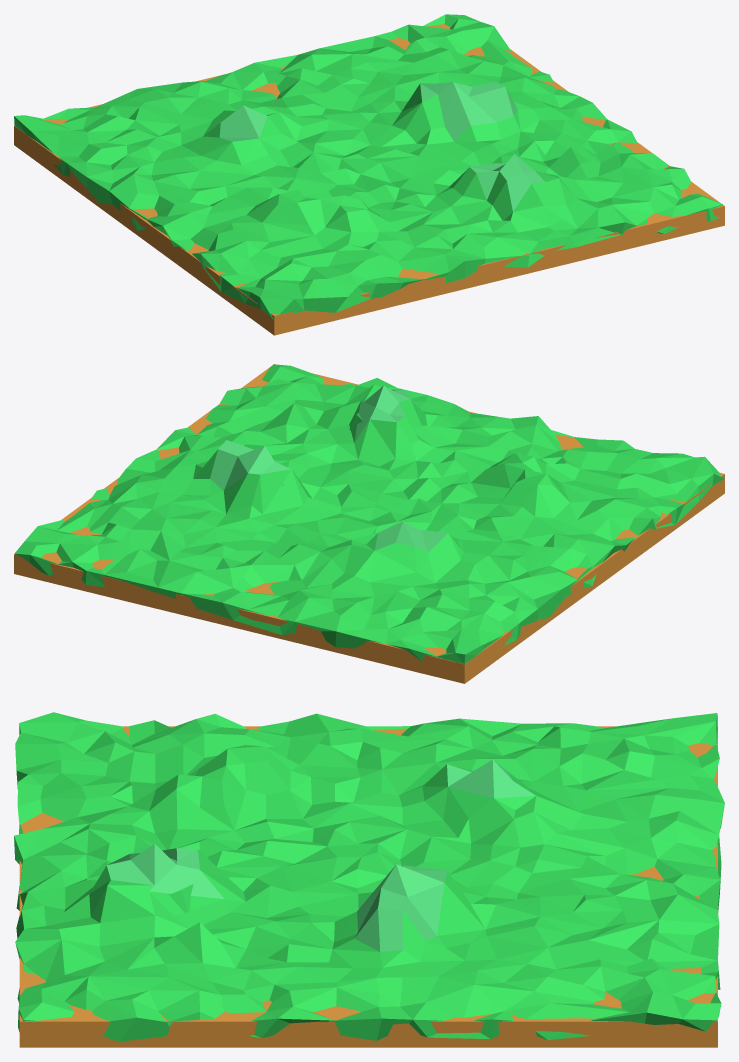
The model's file is Terrain_1.glb.
3 renders of one model, top to bottom at view 1: azimuth 30°, elevation 25°; view 2: azimuth 150°, elevation 25°; view 3: azimuth 270°, elevation 25°, orthographic. The views are drawn at different scales.
Parts seen in each view (by area): view 1: Plane, Plane.001; view 2: Plane, Plane.001; view 3: Plane, Plane.001.
Part boxes in pixels (<box>): Plane: <box>14,14,722,319</box>; Plane.001: <box>14,24,724,335</box>; Plane: <box>14,364,724,664</box>; Plane.001: <box>14,364,724,683</box>; Plane: <box>14,712,724,1041</box>; Plane.001: <box>19,726,717,1047</box>.
Bounding box in the file's own units: 20.25 × 3.14 × 20.36.
